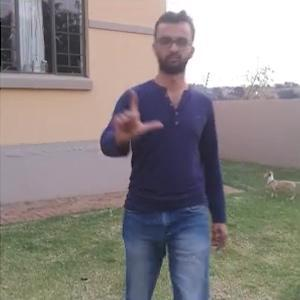land_hand: (107, 78, 164, 148)
